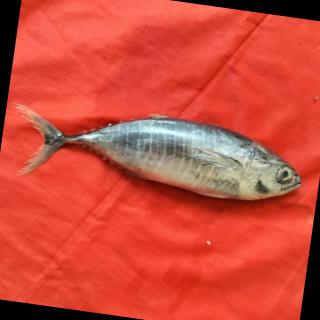Ikan: (1, 86, 315, 240)
